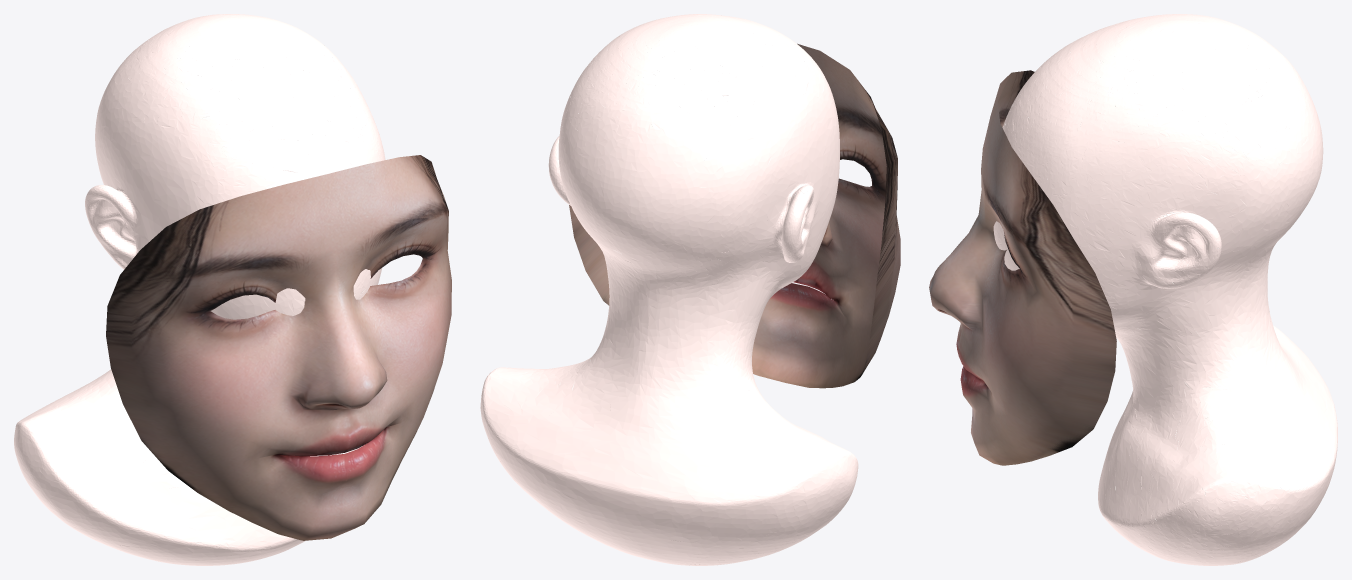
3 views of the same model, side by side, from view 1: azimuth 30°, elevation 25°; view 2: azimuth 150°, elevation 25°; view 3: azimuth 270°, elevation 25° (orthographic). The views are drawn at different scales.
Parts seen in each view (by area): view 1: faceMesh, geometry_0; view 2: geometry_0, faceMesh; view 3: geometry_0, faceMesh.
Boxes of the visible parts, left/top/right/bottom form: faceMesh: left=106, top=155, right=451, bottom=540; geometry_0: left=14, top=14, right=385, bottom=565; geometry_0: left=480, top=14, right=858, bottom=565; faceMesh: left=569, top=43, right=900, bottom=388; geometry_0: left=993, top=14, right=1337, bottom=565; faceMesh: left=929, top=70, right=1116, bottom=465.
Size of the model in its own units: 2.19 by 2.97 by 2.15.
2 materials, 1 textured.
